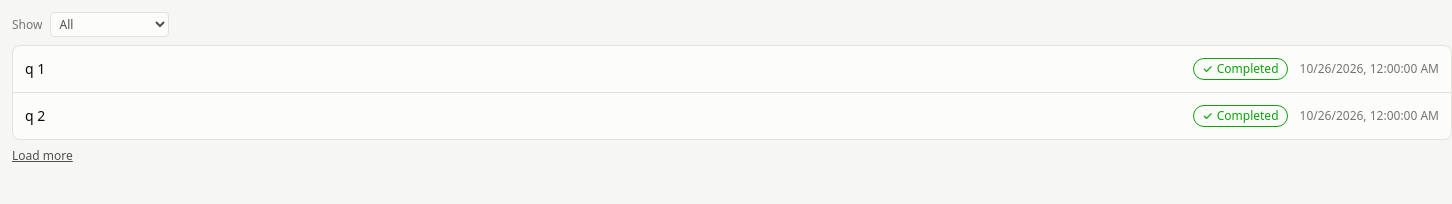
it: HistoryList › filters by status and loads further pages with the cursor
The width and height of the screenshot is (1452, 204).
Check: the text "q 1" is shown, box [25,59,45,79]
Click the button "Load more".
click(42, 156)  # box [12,148,73,164]
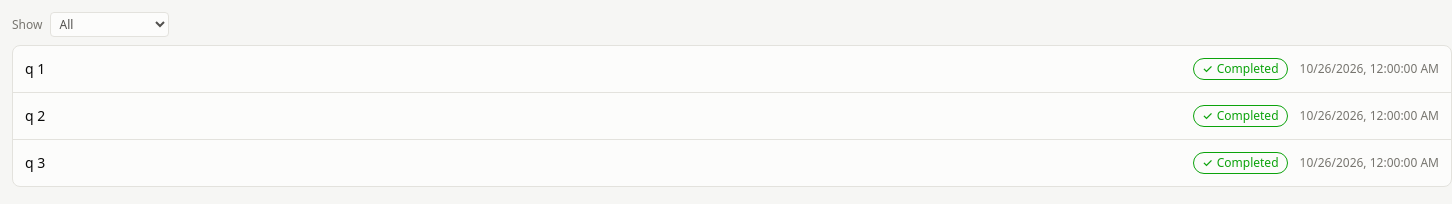
Check: the text "q 3" is shown, box [25,153,45,173]
Check: the button "Load more" is gone
Select "Failed" in the dropdown at (110, 24), box [50,12,170,37]
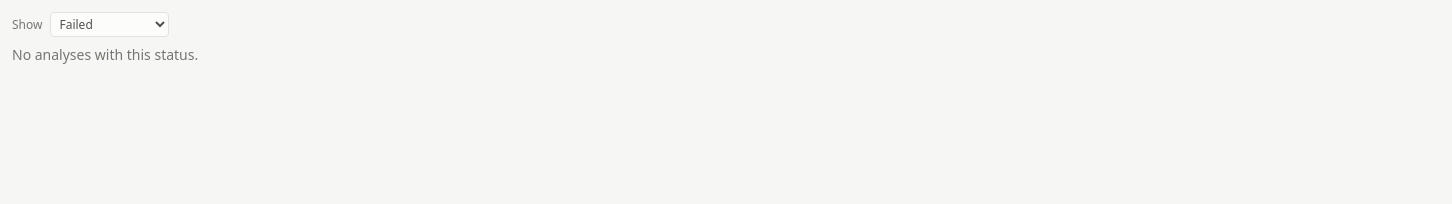
Check: the text "No analyses with this status." is shown, box [12,45,198,64]
